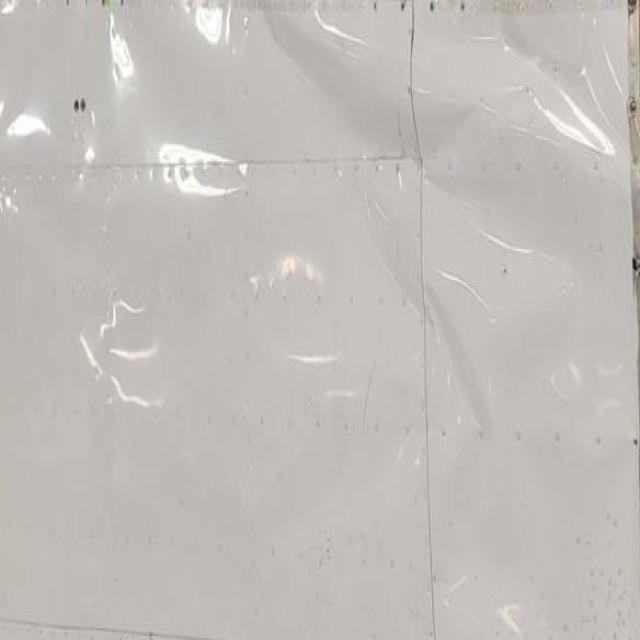Dent: (263, 0, 629, 282), (378, 248, 497, 445), (496, 20, 628, 149)
